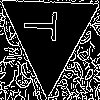T: (24, 9, 65, 42)
